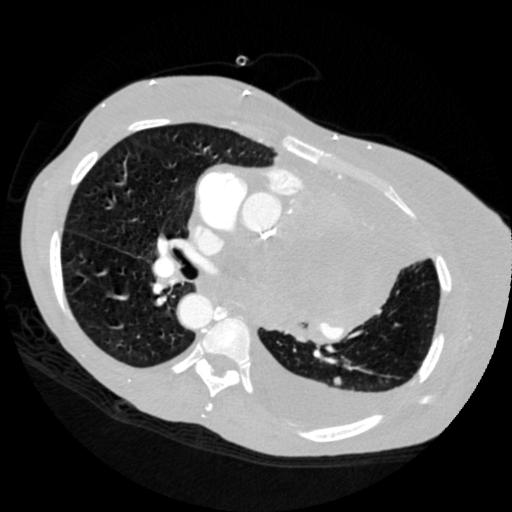nodule: (331, 373, 349, 391)
